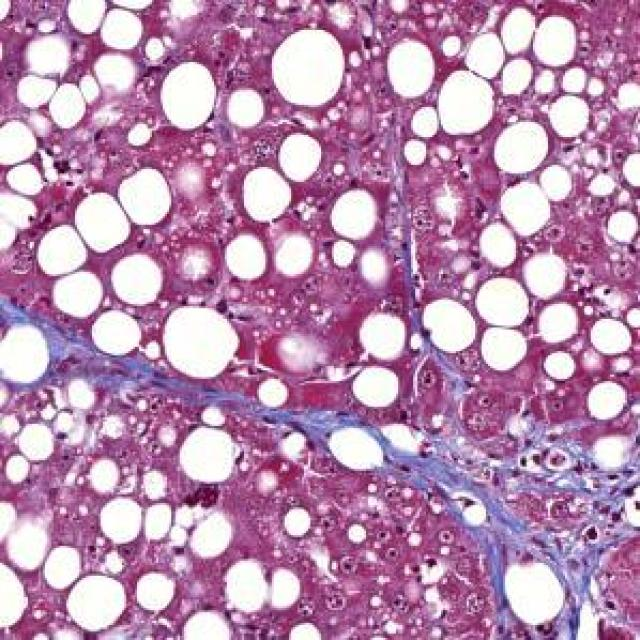fibrosis: (394, 430, 638, 589)
